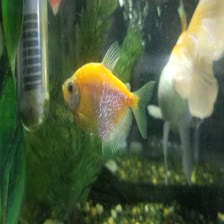Cuezo: (150, 0, 223, 182)
Plano: (57, 43, 158, 143)
